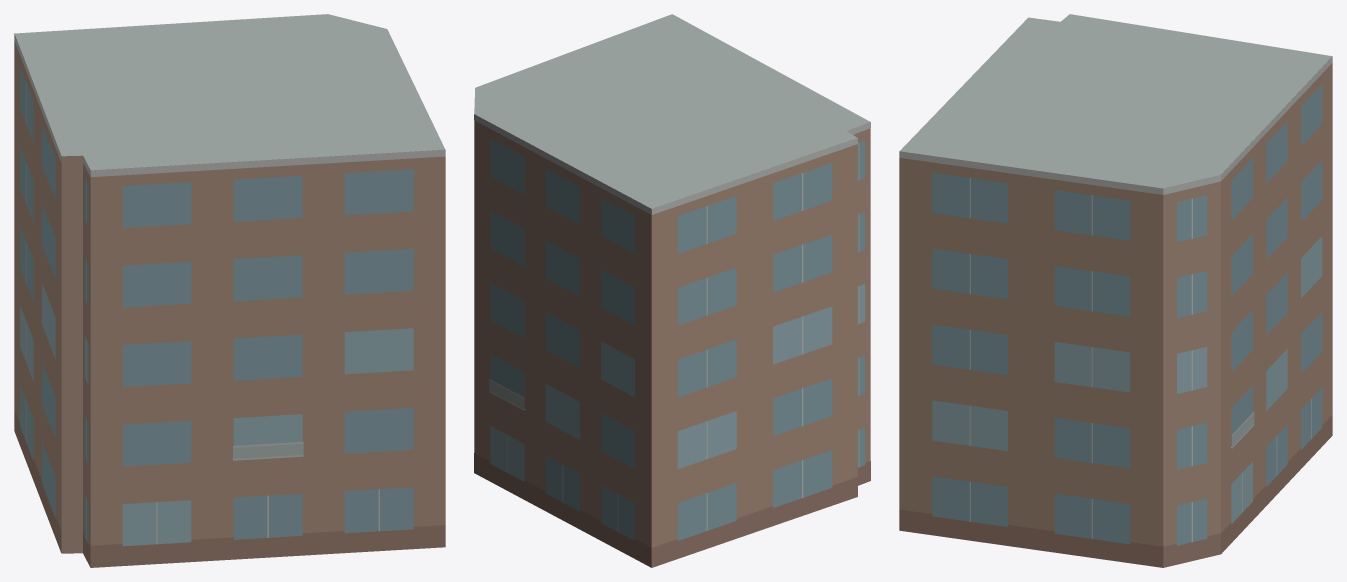
File: survey-upis-32504950.glb
3 views of the same model, side by side, from view 1: azimuth 30°, elevation 25°; view 2: azimuth 150°, elevation 25°; view 3: azimuth 270°, elevation 25° (orthographic). The views are drawn at different scales.
Visible parts, largest first — view 1: survey-upis-32504950.tmp; view 2: survey-upis-32504950.tmp; view 3: survey-upis-32504950.tmp.
Boxes of the visible parts, x1,y1,x2,y2 form: survey-upis-32504950.tmp: (14,14,445,567); survey-upis-32504950.tmp: (474,14,870,567); survey-upis-32504950.tmp: (899,14,1332,567).
Bounding box in the file's own units: 14.02 × 14.2 × 14.7.
